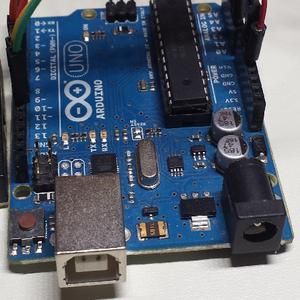duino: (9, 0, 291, 270)
